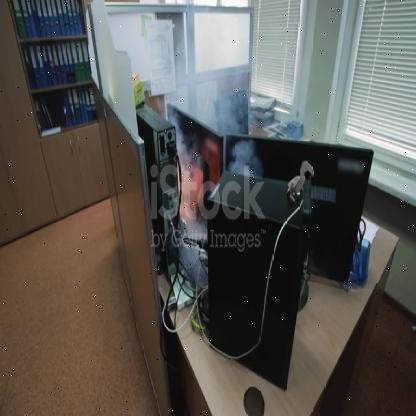smoke: (113, 4, 264, 289)
